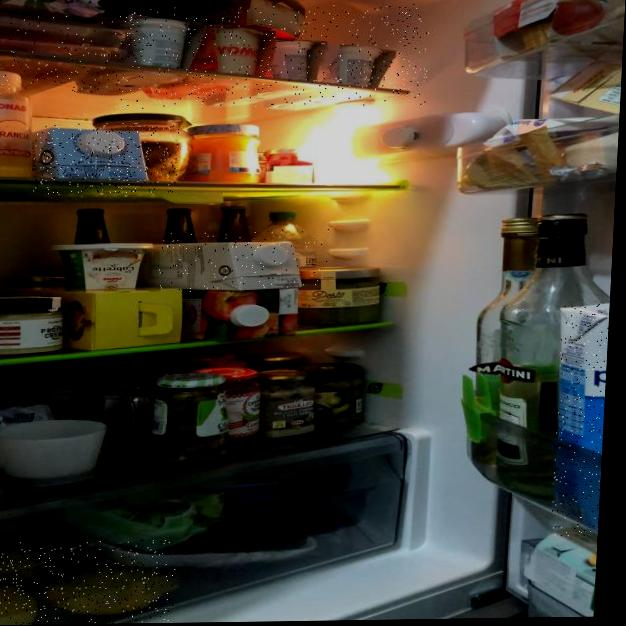ham: (0, 37, 125, 93), (0, 14, 131, 44)
lemon: (0, 540, 177, 626)
milk: (551, 304, 610, 536), (156, 229, 330, 293), (32, 122, 180, 194)
yoghurt: (115, 4, 431, 110)
